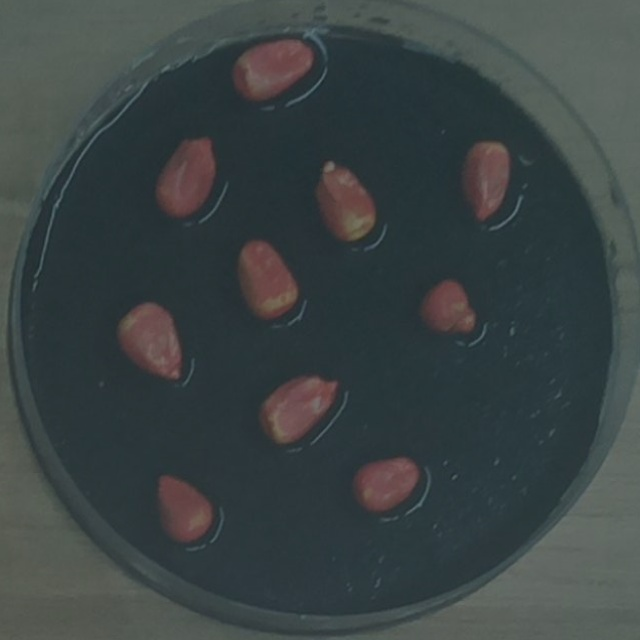Zea mays: (250, 365, 345, 451), (108, 292, 191, 387), (224, 28, 321, 107), (308, 150, 384, 248), (147, 128, 223, 225), (230, 232, 304, 327), (453, 133, 517, 228), (150, 467, 219, 550), (345, 449, 426, 519), (412, 271, 483, 344)
